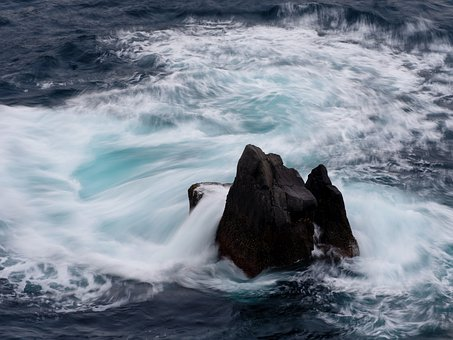sea: (5, 5, 453, 334)
stone: (193, 141, 354, 269)
